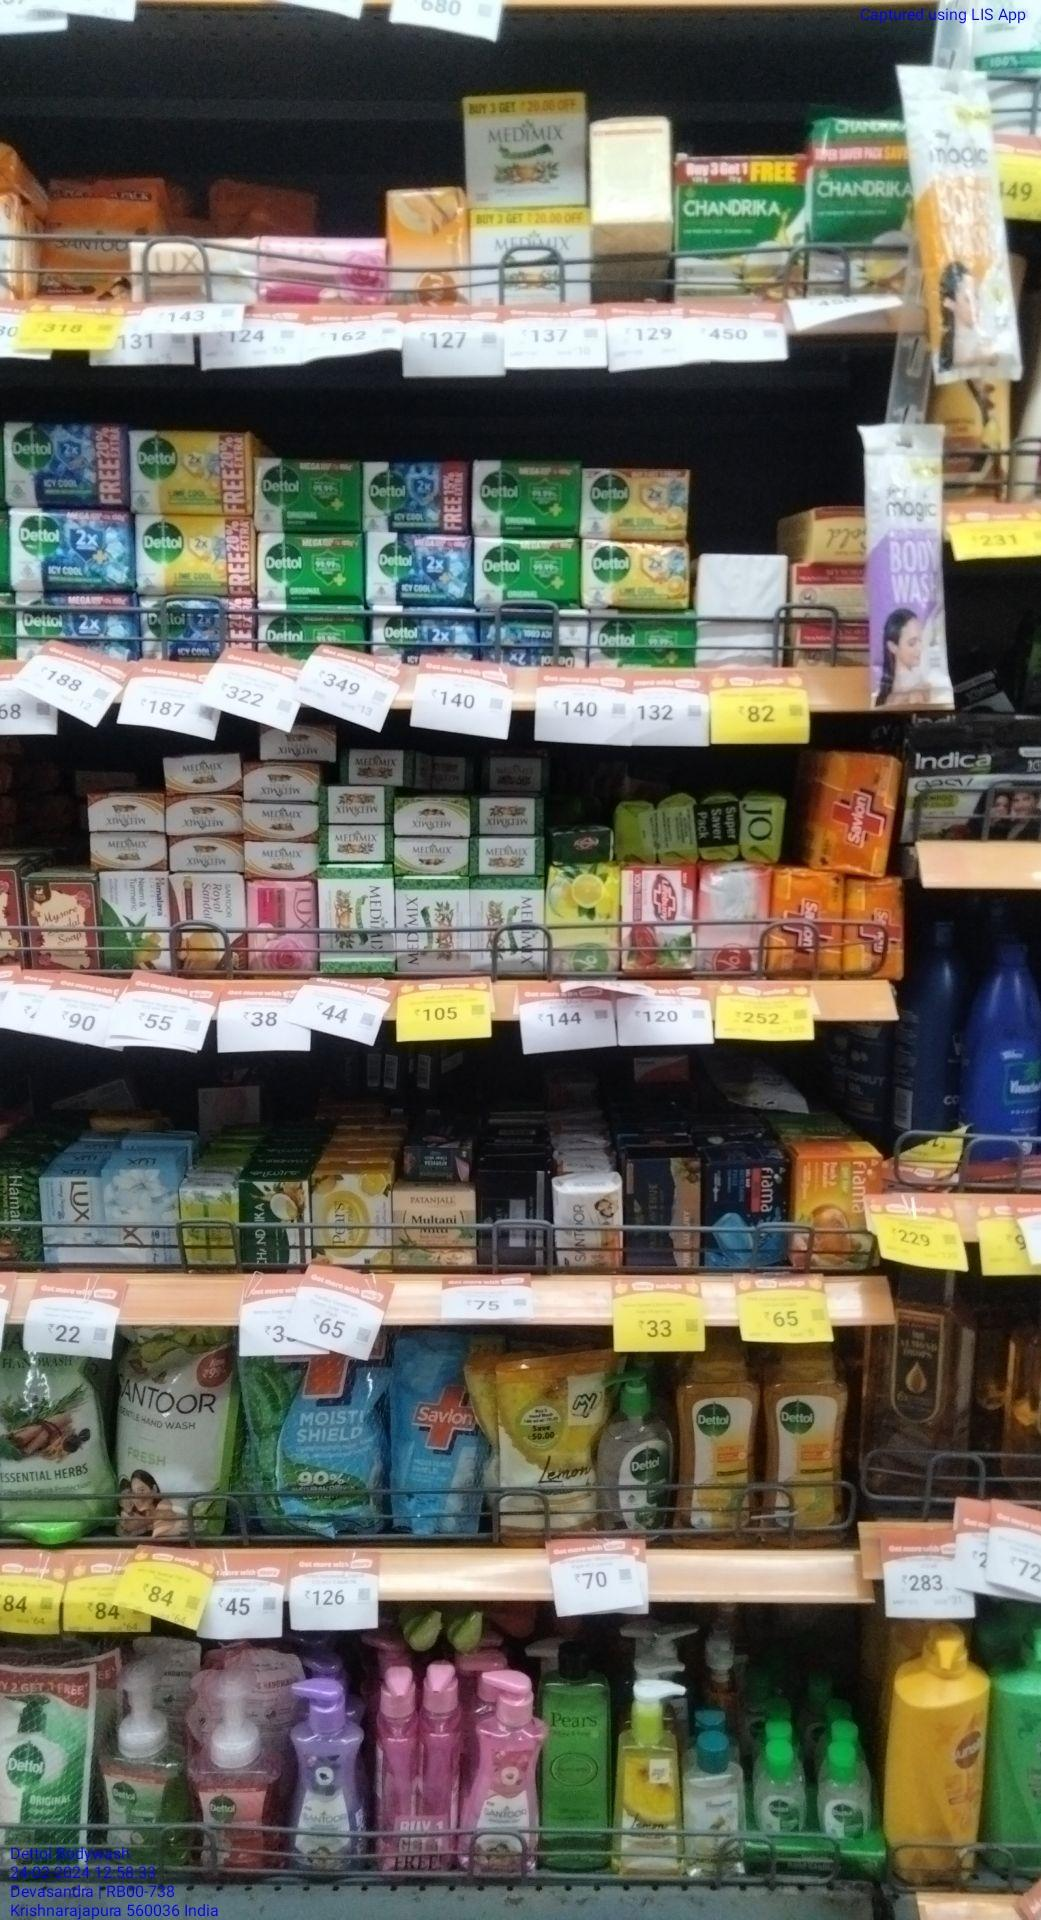Dettol_Bodywash_Refresh: (772, 1346, 847, 1541), (681, 1353, 759, 1542)
Pears_Pure_Glycerin_and_Lemon_Flower_Extracts_Body_Wash_250ML: (544, 1650, 612, 1869)
